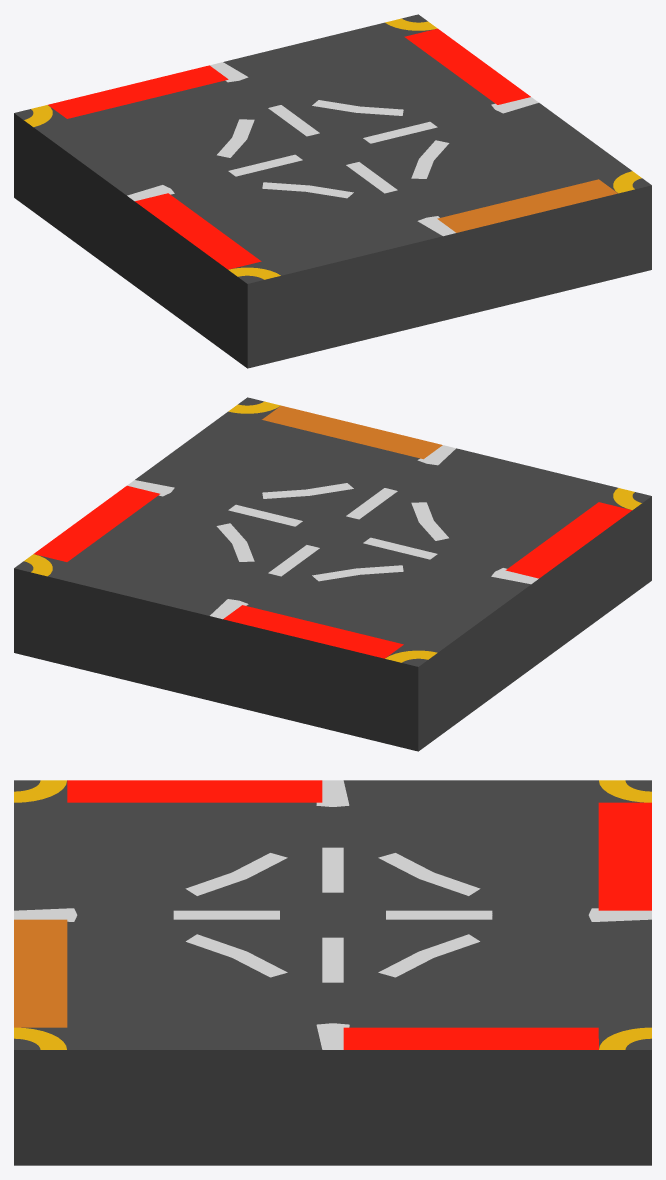
Rendered from 4way_ORRR_road.fbx.
The picture shows the model from 3 angles, top to bottom: view 1: azimuth 30°, elevation 25°; view 2: azimuth 150°, elevation 25°; view 3: azimuth 270°, elevation 25°; orthographic projection. The views are drawn at different scales.
Visible parts, largest first — view 1: Cube; view 2: Cube; view 3: Cube.
Boxes of the visible parts, left/top/right/bottom form: Cube: left=14, top=14, right=651, bottom=368; Cube: left=14, top=397, right=651, bottom=751; Cube: left=14, top=780, right=651, bottom=1165.
Bounding box in the file's own units: 100 × 20 × 100.
